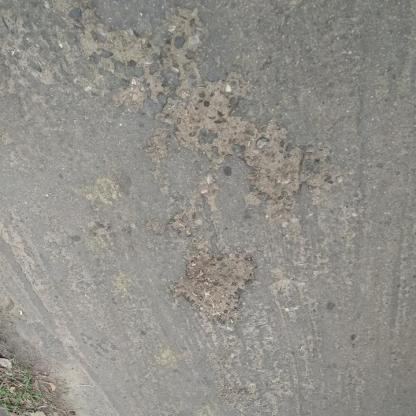pothole: (157, 80, 243, 165), (166, 248, 258, 326), (241, 122, 309, 205)
